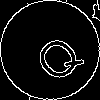Q: (25, 25, 87, 88)
